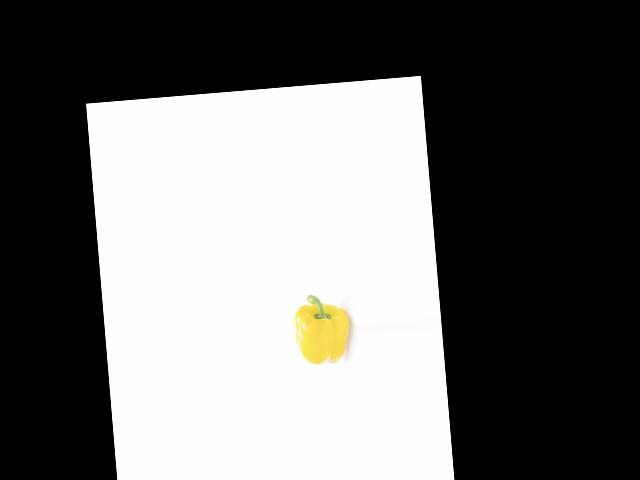bell_pepper: (289, 286, 352, 368)
